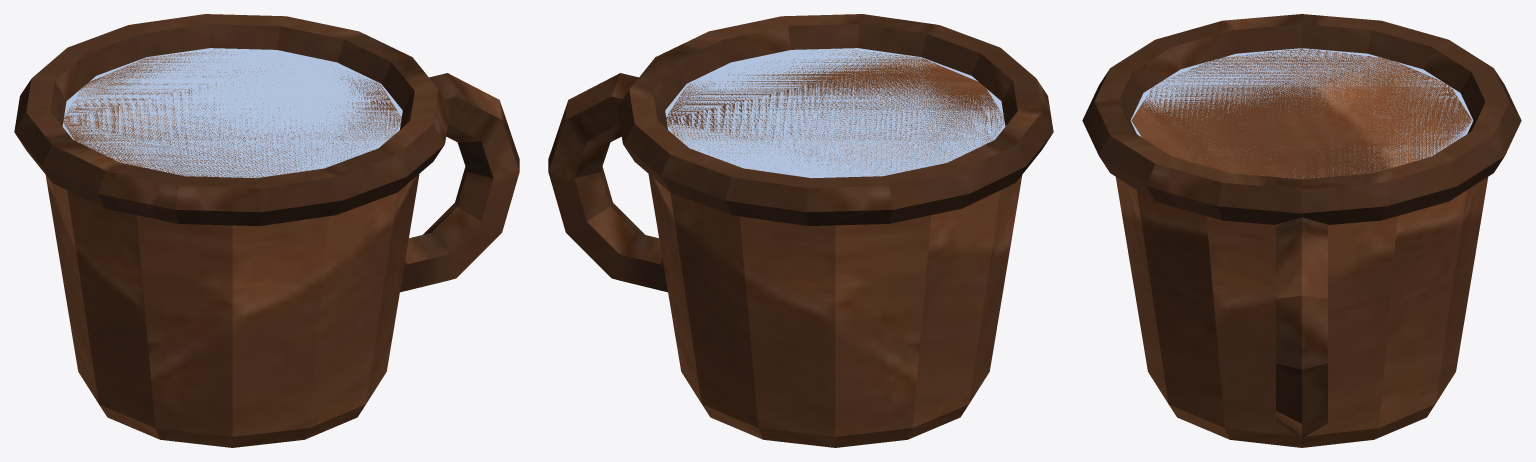
File: drink_bellcap_juice.glb
The picture shows the model from 3 angles, left to right: view 1: azimuth 30°, elevation 25°; view 2: azimuth 150°, elevation 25°; view 3: azimuth 270°, elevation 25°; orthographic projection.
Visible parts, largest first — view 1: model; view 2: model; view 3: model.
Part boxes in pixels (left/top/right/bottom): model: left=14, top=14, right=519, bottom=447; model: left=548, top=14, right=1053, bottom=447; model: left=1082, top=14, right=1521, bottom=447.
Size of the model in its own units: 0.183 by 0.1069 by 0.146.
Materials: 3 (2 with a texture image).
